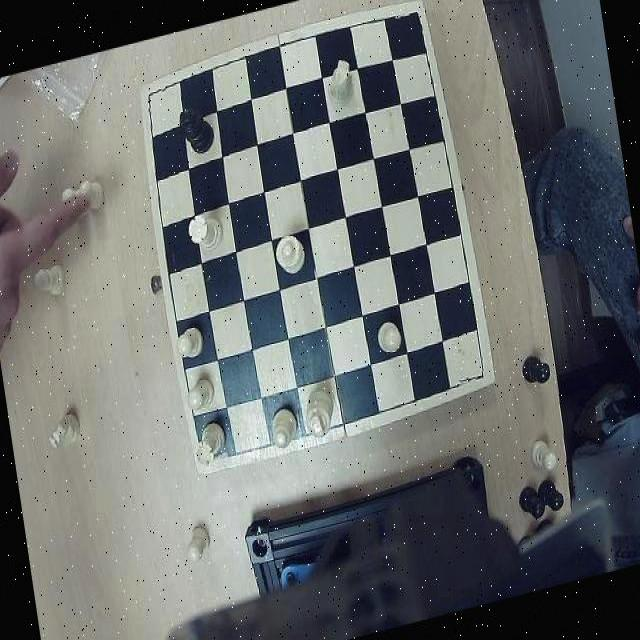chess-table-corners: (457, 352, 492, 390), (194, 435, 228, 473), (394, 3, 426, 37), (142, 80, 168, 112)
